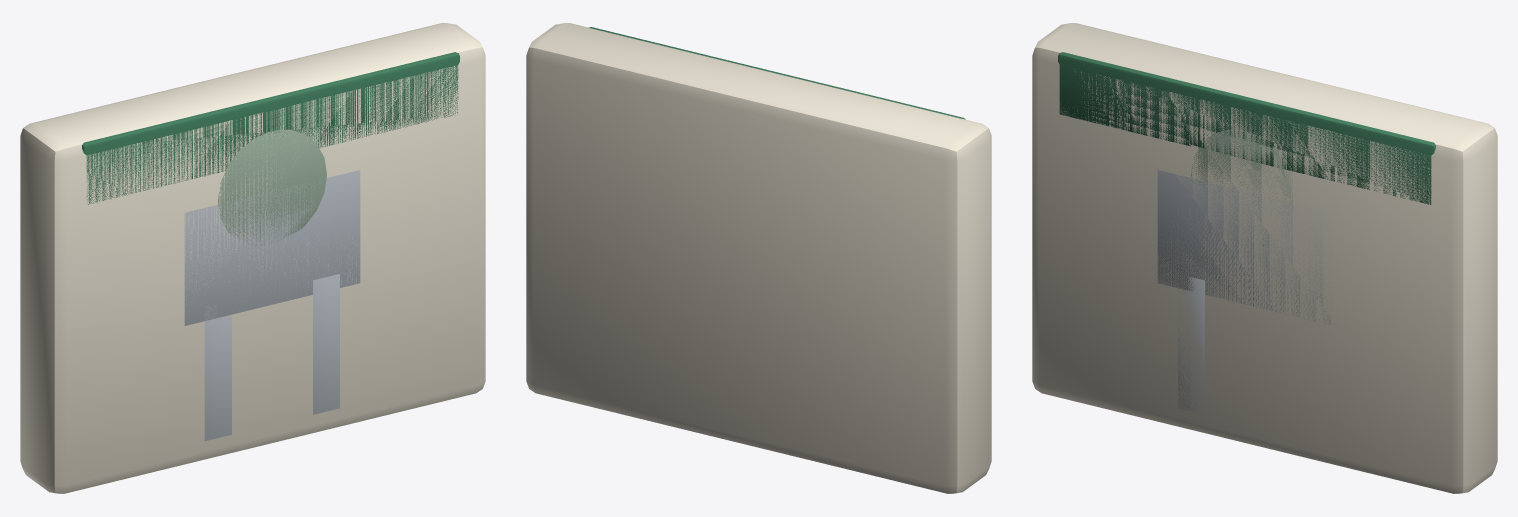
Rendered from checkout_product_divot_tool_card.glb.
3 views of the same model, side by side, from view 1: azimuth 30°, elevation 25°; view 2: azimuth 150°, elevation 25°; view 3: azimuth 330°, elevation 25° (orthographic).
Parts seen in each view (by area): view 1: DivotBackingCard, DivotHeader, DivotToolSpine, DivotBallMarker, DivotToolTine_2, DivotToolTine_1; view 2: DivotBackingCard, DivotHeader; view 3: DivotBackingCard, DivotHeader, DivotToolSpine, DivotBallMarker, DivotToolTine_1.
Boxes of the visible parts, x1,y1,x2,y2 form: DivotBackingCard: (20, 23, 485, 493); DivotHeader: (82, 52, 459, 204); DivotToolSpine: (184, 170, 360, 325); DivotBallMarker: (218, 129, 326, 245); DivotToolTine_2: (313, 274, 339, 414); DivotToolTine_1: (204, 305, 231, 441); DivotBackingCard: (526, 23, 991, 493); DivotHeader: (589, 27, 965, 119); DivotBackingCard: (1032, 23, 1497, 493); DivotHeader: (1058, 52, 1435, 204); DivotToolSpine: (1157, 170, 1332, 324); DivotBallMarker: (1191, 129, 1292, 245); DivotToolTine_1: (1178, 276, 1204, 414).
Size of the model in its own units: 0.13 by 0.1 by 0.02.
